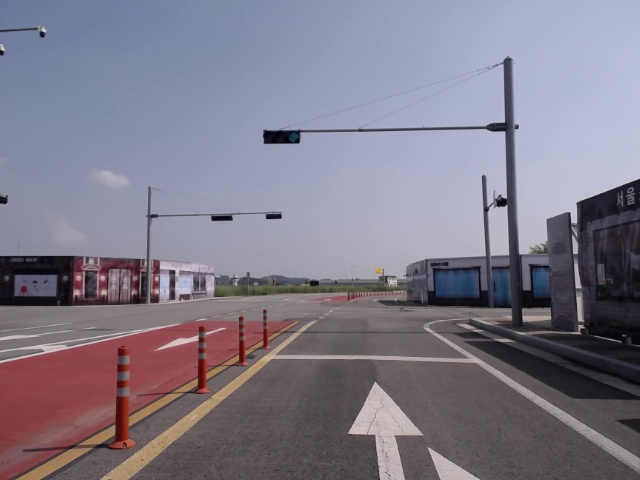green_3: (263, 130, 301, 144)
